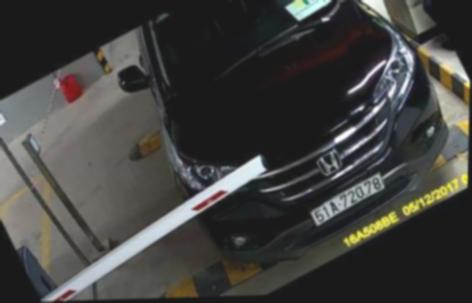License_Plate: (302, 150, 385, 228)
